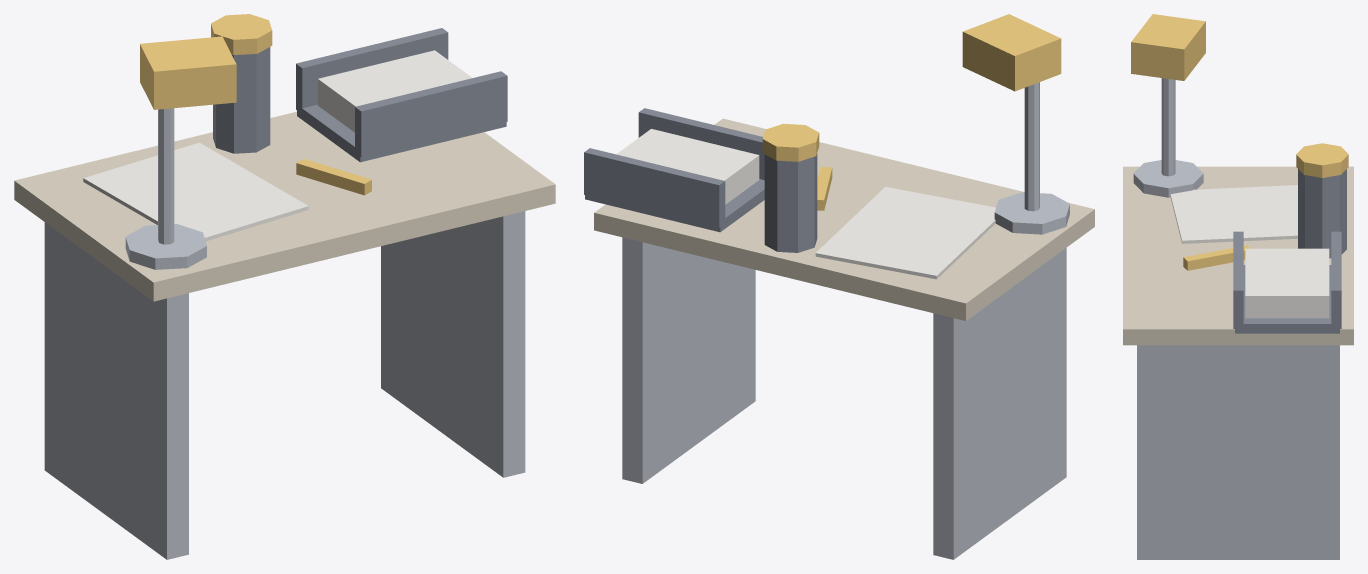
The model's file is station_processing_3.glb.
The picture shows the model from 3 angles, left to right: view 1: azimuth 30°, elevation 25°; view 2: azimuth 150°, elevation 25°; view 3: azimuth 270°, elevation 25°; orthographic projection. The views are drawn at different scales.
Visible parts, largest first — view 1: platte, bein_paar, bein_paar.001, blatt, korb_wand, lampe_schirm, korb_papier, kanne, korb_wand.001, lampe_fuss, lampe_arm, korb_boden (+2 smaller); view 2: bein_paar, platte, bein_paar.001, blatt, korb_wand.001, lampe_schirm, kanne, korb_papier, korb_wand, lampe_fuss, lampe_arm, kanne_deckel (+1 smaller); view 3: bein_paar.001, platte, blatt, korb_papier, lampe_schirm, kanne, korb_boden, lampe_fuss, kanne_deckel, lampe_arm, korb_wand, korb_wand.001 (+1 smaller).
Boxes of the visible parts, box(x1,y1,x2,y2) form: platte: box(14, 111, 555, 301); bein_paar: box(44, 222, 188, 559); bein_paar.001: box(381, 211, 525, 477); blatt: box(83, 142, 308, 241); korb_wand: box(355, 71, 507, 157); lampe_schirm: box(140, 36, 236, 109); korb_papier: box(318, 50, 472, 132); kanne: box(213, 47, 270, 153); korb_wand.001: box(296, 28, 448, 112); lampe_fuss: box(125, 224, 206, 269); lampe_arm: box(158, 108, 174, 244); korb_boden: box(297, 104, 506, 162); bein_paar: box(933, 248, 1066, 559); platte: box(594, 118, 1094, 320); bein_paar.001: box(622, 237, 755, 483); blatt: box(815, 187, 995, 279); korb_wand.001: box(584, 148, 725, 227); lampe_schirm: box(962, 14, 1061, 91); kanne: box(764, 153, 817, 252); korb_papier: box(616, 129, 759, 204); korb_wand: box(638, 108, 764, 179); lampe_fuss: box(994, 192, 1069, 234); lampe_arm: box(1024, 82, 1039, 211); kanne_deckel: box(762, 123, 819, 161); bein_paar.001: box(1137, 345, 1339, 559); platte: box(1123, 166, 1353, 345); blatt: box(1170, 185, 1297, 243); korb_papier: box(1245, 248, 1329, 318); lampe_schirm: box(1131, 14, 1205, 80); kanne: box(1298, 169, 1346, 258); korb_boden: box(1235, 265, 1339, 333); lampe_fuss: box(1133, 160, 1203, 197); kanne_deckel: box(1296, 143, 1348, 177); lampe_arm: box(1161, 78, 1175, 176); korb_wand: box(1233, 231, 1243, 328); korb_wand.001: box(1331, 231, 1341, 328).
Bounding box in the file's own units: 1.15 × 1.26 × 0.66.
